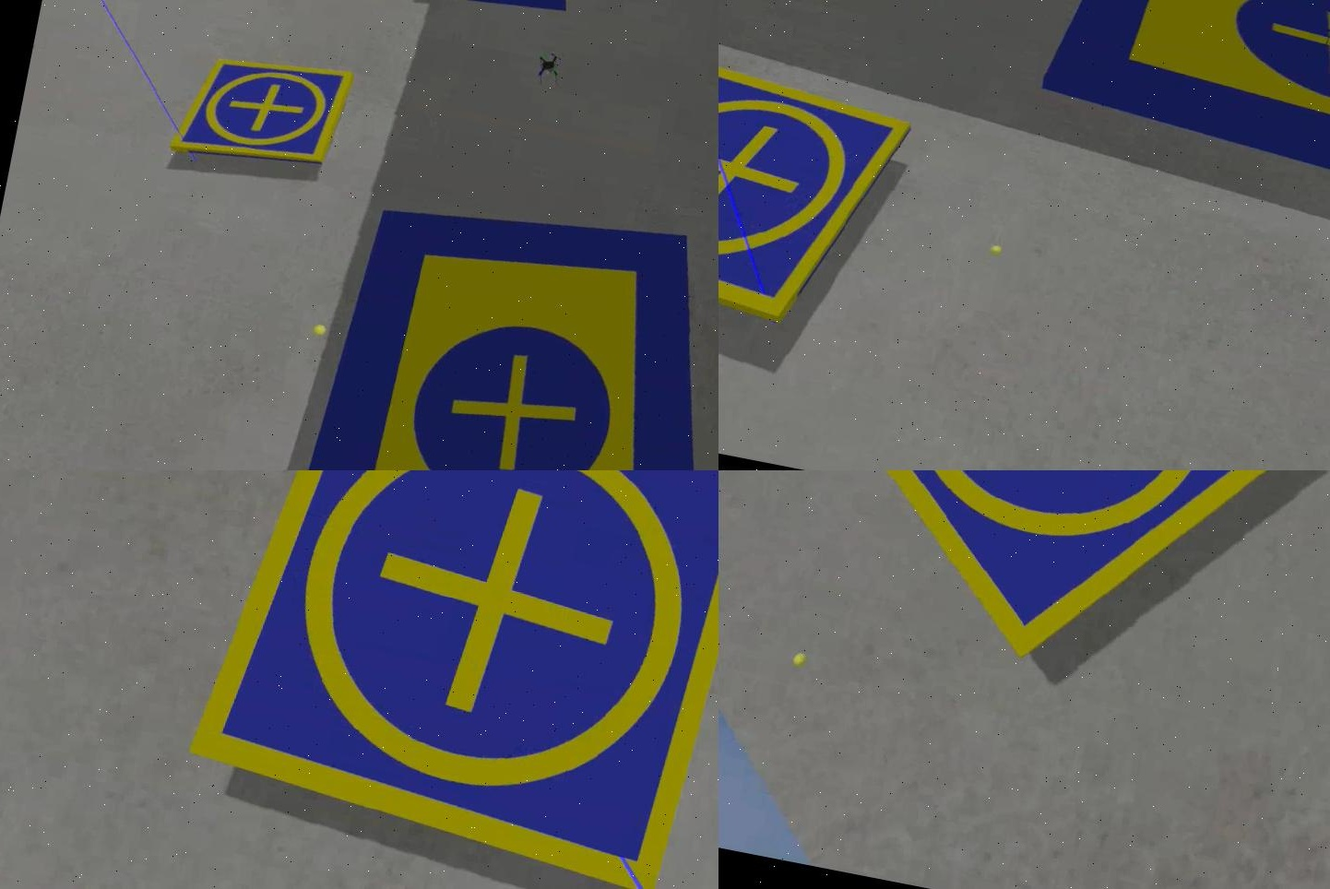large_base: (244, 166, 717, 471), (1036, 1, 1328, 234)
small_base: (176, 471, 717, 889), (745, 471, 1328, 705), (717, 31, 915, 334), (164, 34, 350, 182)
